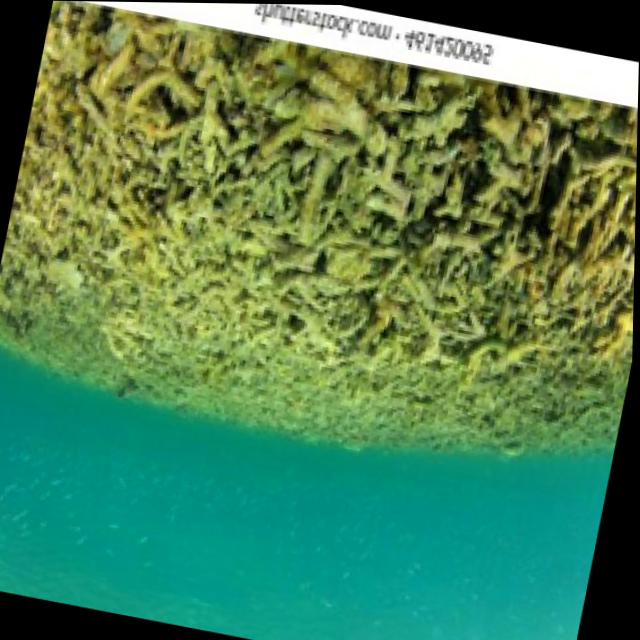Dead Coral: (0, 3, 640, 454), (158, 34, 626, 362)
